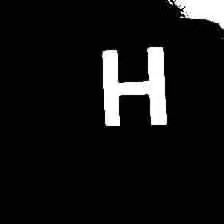LTR_H: (89, 39, 174, 134)
